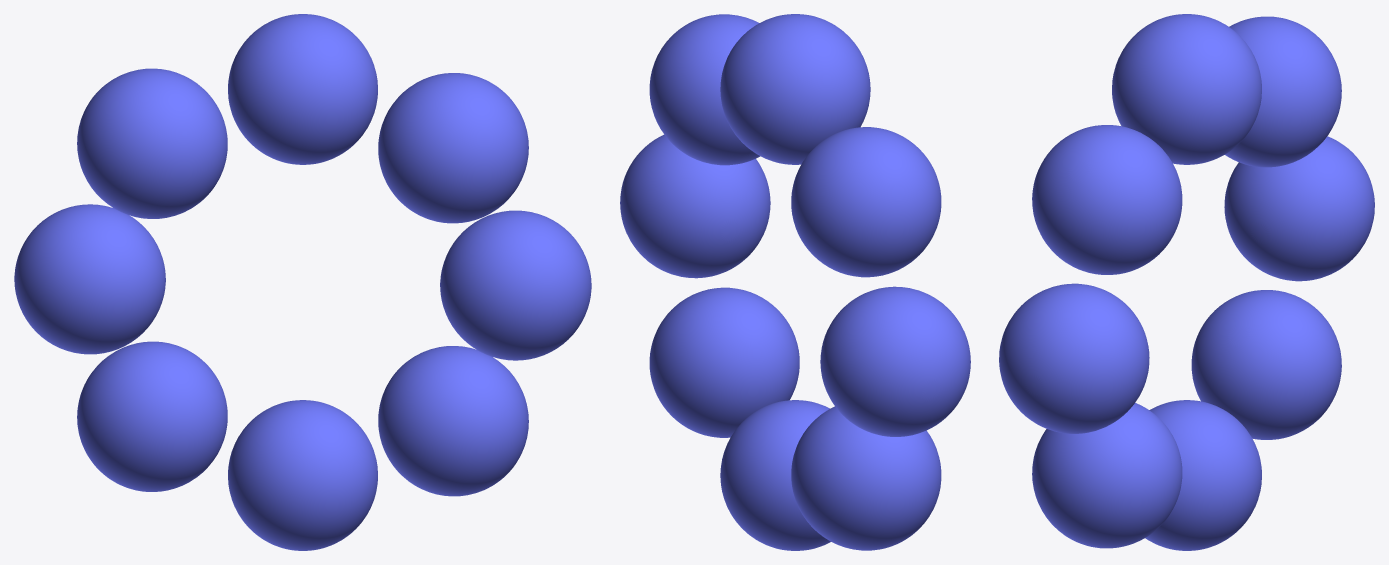
File: rotating-dots-loading-animated-3d-icon-1713487290663.glb
The picture shows the model from 3 angles, left to right: view 1: azimuth 30°, elevation 25°; view 2: azimuth 150°, elevation 25°; view 3: azimuth 270°, elevation 25°; orthographic projection.
Visible parts, largest first — view 1: Sphere.003, Sphere.002, Sphere.006, Sphere.004, Sphere.005, Sphere.007, Sphere, Sphere.001; view 2: Sphere.002, Sphere.006, Sphere, Sphere.007, Sphere.004, Sphere.003, Sphere.005, Sphere.001; view 3: Sphere.003, Sphere.005, Sphere, Sphere.004, Sphere.007, Sphere.002, Sphere.006, Sphere.001.
Boxes of the visible parts, x1,y1,x2,y2 form: Sphere.003: (440,210,591,360); Sphere.002: (14,204,165,354); Sphere.006: (77,68,227,218); Sphere.004: (77,341,227,491); Sphere.005: (378,73,528,223); Sphere.007: (378,346,528,496); Sphere: (228,14,377,164); Sphere.001: (228,400,377,550); Sphere.002: (820,286,970,436); Sphere.006: (791,127,941,277); Sphere: (720,14,870,164); Sphere.007: (649,287,799,437); Sphere.004: (791,406,941,550); Sphere.003: (620,134,770,278); Sphere.005: (649,14,760,165); Sphere.001: (720,400,830,550); Sphere.003: (999,283,1149,433); Sphere.005: (1032,125,1182,274); Sphere: (1112,14,1261,164); Sphere.004: (1191,290,1341,439); Sphere.007: (1032,403,1182,548); Sphere.002: (1224,136,1374,281); Sphere.006: (1225,16,1341,167); Sphere.001: (1145,400,1261,550).
Bounding box in the file's own units: 1.73 × 1.96 × 1.27.
